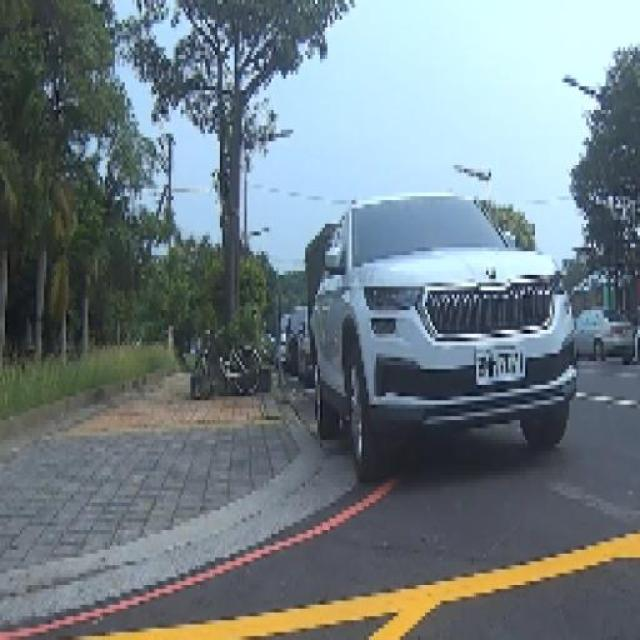illegalparking: (275, 176, 610, 493)
